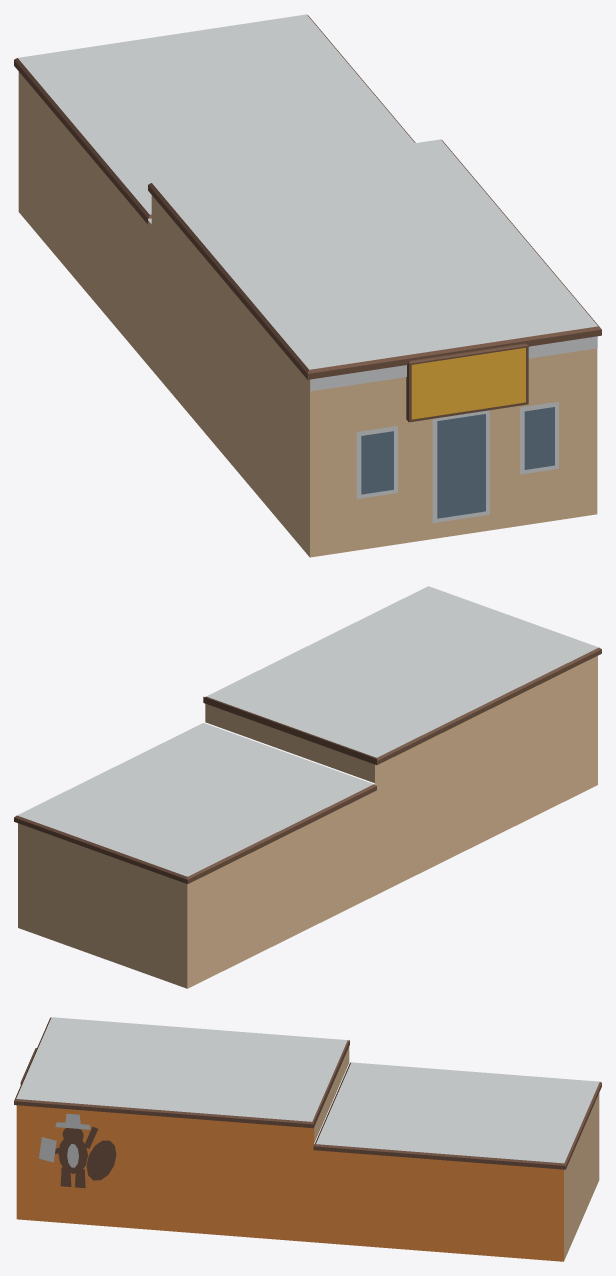
File: detail.glb
3 renders of one model, top to bottom at view 1: azimuth 30°, elevation 25°; view 2: azimuth 150°, elevation 25°; view 3: azimuth 270°, elevation 25°, orthographic. The views are drawn at different scales.
Visible parts, largest first — view 1: thirsty-beaver-saloon; view 2: thirsty-beaver-saloon; view 3: thirsty-beaver-saloon.
Part boxes in pixels (x1,y1,x2,y2): thirsty-beaver-saloon: (14, 14, 601, 557); thirsty-beaver-saloon: (14, 586, 601, 988); thirsty-beaver-saloon: (14, 1017, 601, 1261).
Size of the model in its own units: 9.86 by 4.4 by 19.43.
